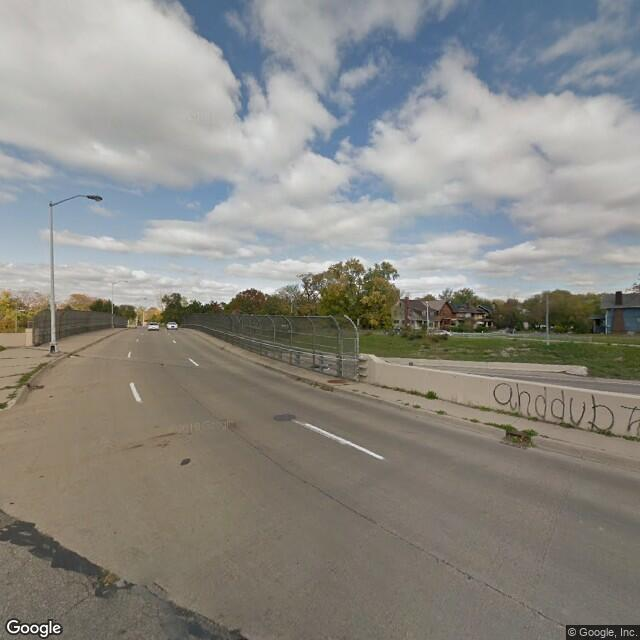litter: (506, 437, 529, 443)
